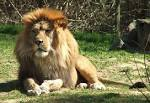lion: (14, 6, 108, 100)
